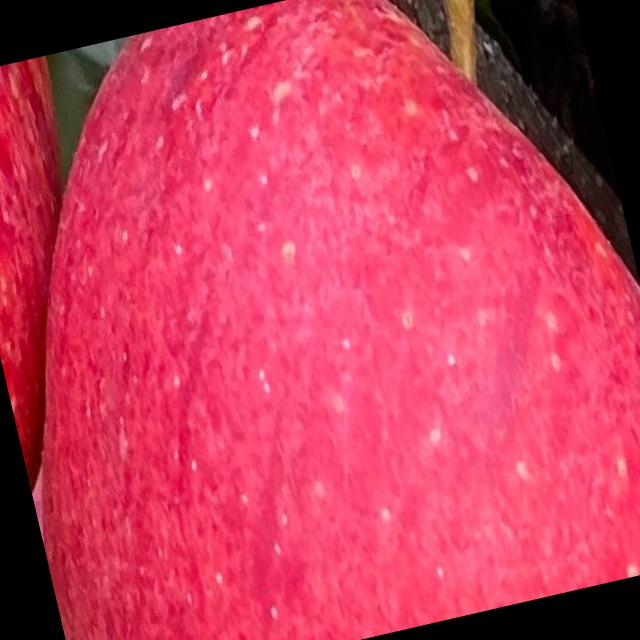Apples: (0, 0, 639, 639), (0, 54, 148, 509)
